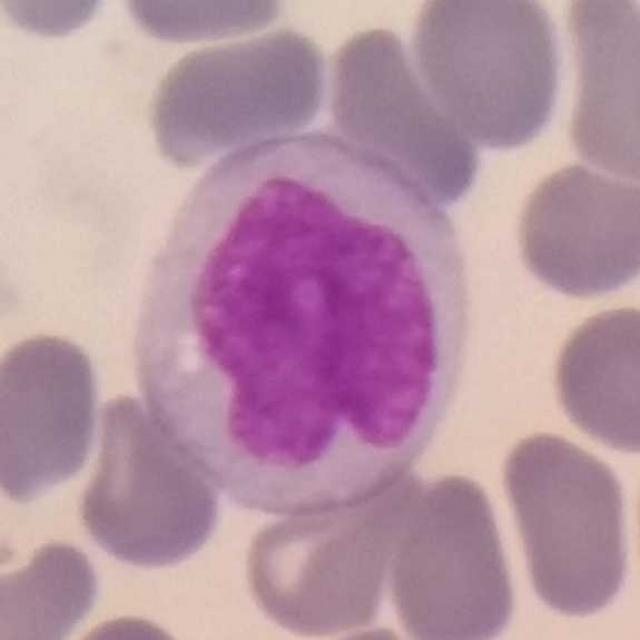mono: (132, 128, 477, 519)
